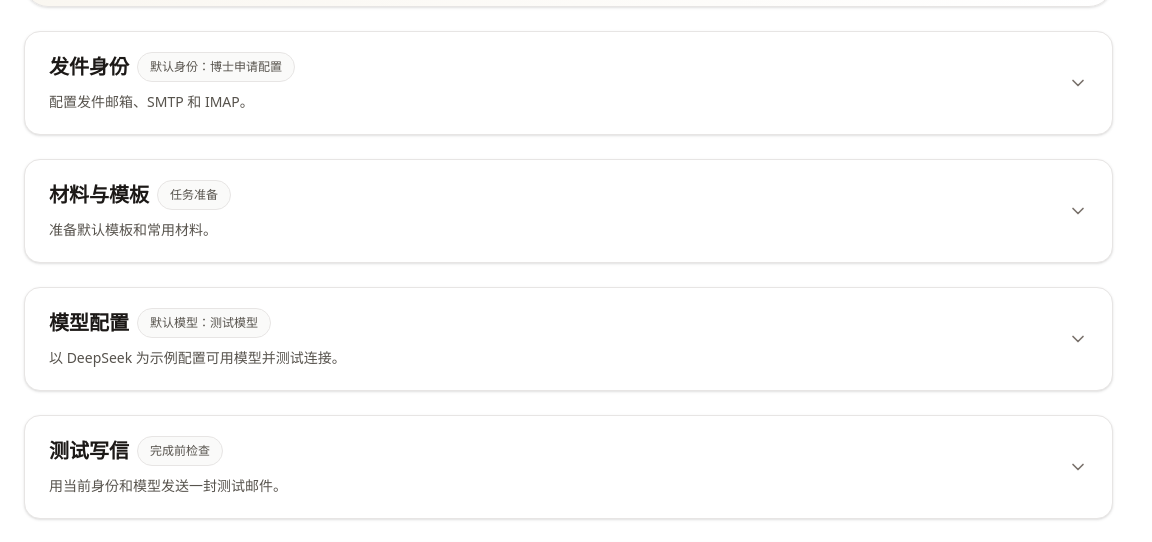
Test case: ProfilePage onboarding › renders the material entry and connection testing area for an existing identity
(page scrolled)
Click the button "材料与模板 任务准备 准备默认模板和常用材料。" at (99,194), box [25, 160, 1112, 262]
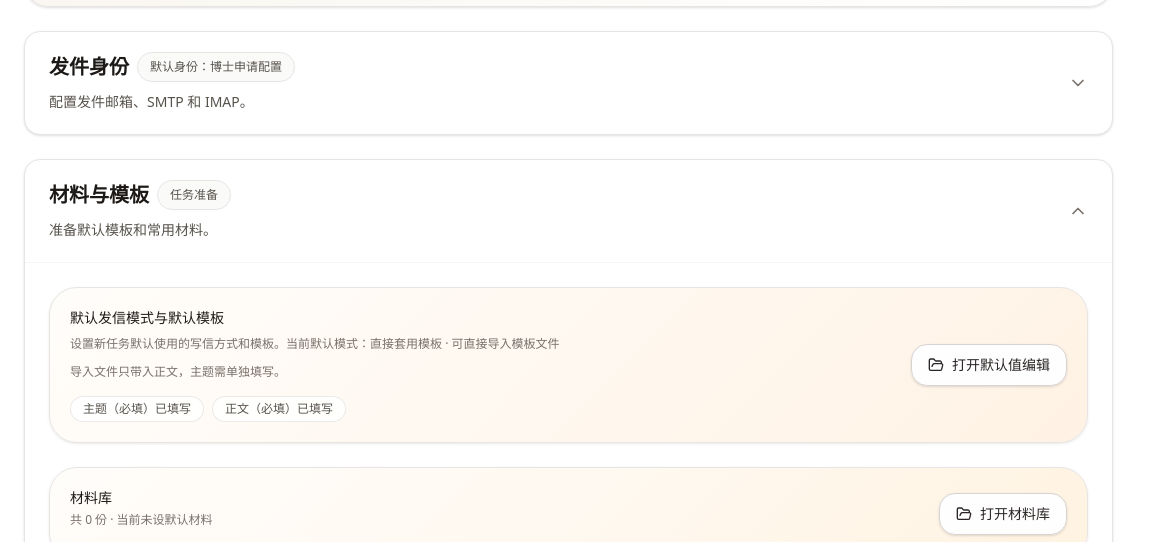
Click the button "发件身份 默认身份：博士申请配置 配置发件邮箱、SMTP 和 IMAP。" at (89,66), box [25, 32, 1112, 134]
(page scrolled)
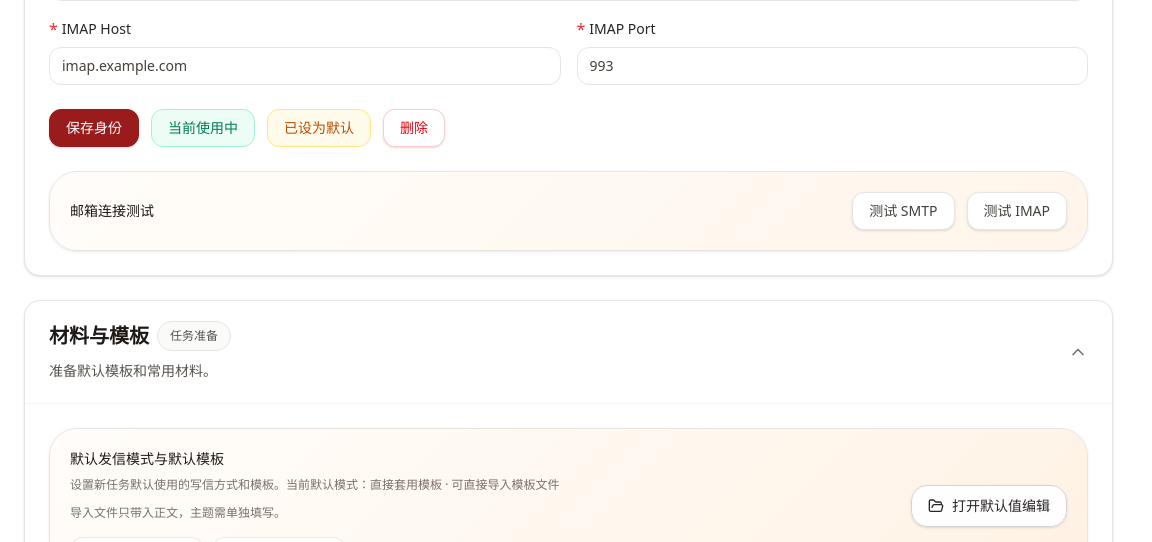
Now the text "邮箱连接测试" is shown, box [70, 201, 154, 221]
Now the button "测试 SMTP" is shown, box [852, 192, 954, 230]
Now the button "测试 IMAP" is shown, box [966, 192, 1067, 230]
